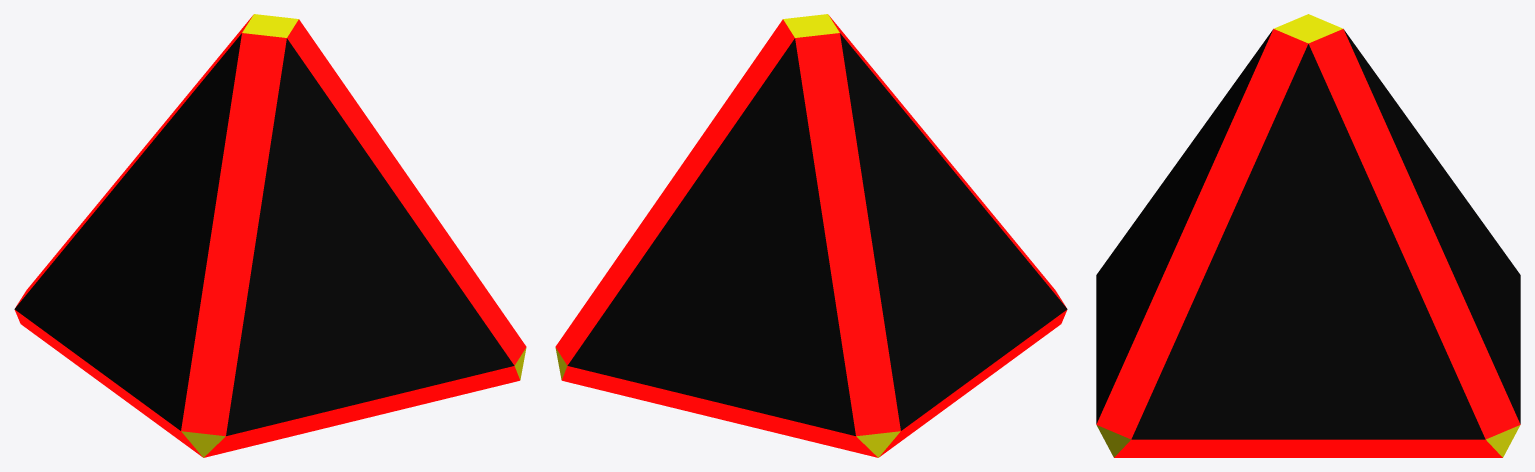
File: Bomb.fbx
The picture shows the model from 3 angles, left to right: view 1: azimuth 30°, elevation 25°; view 2: azimuth 150°, elevation 25°; view 3: azimuth 270°, elevation 25°; orthographic projection. The views are drawn at different scales.
Visible parts, largest first — view 1: Cube; view 2: Cube; view 3: Cube.
Part boxes in pixels (bbox=[...]): Cube: bbox=[14, 14, 526, 457]; Cube: bbox=[555, 14, 1067, 457]; Cube: bbox=[1096, 14, 1520, 457].
Size of the model in its own units: 187 by 169 by 187.
